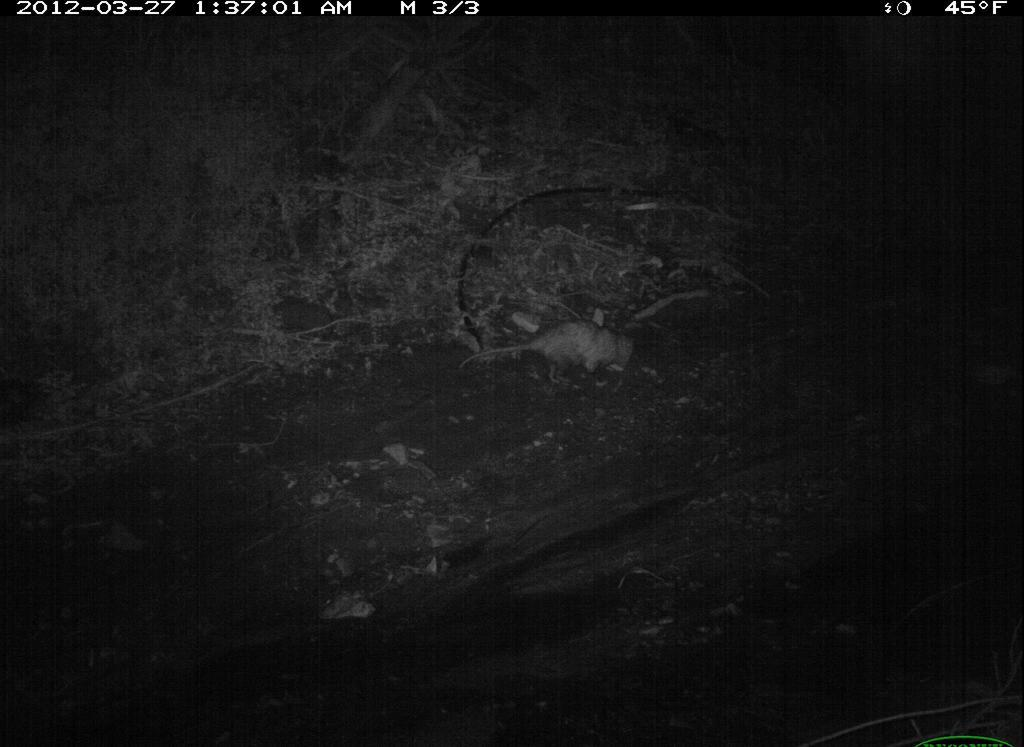opossum: (456, 316, 636, 394)
